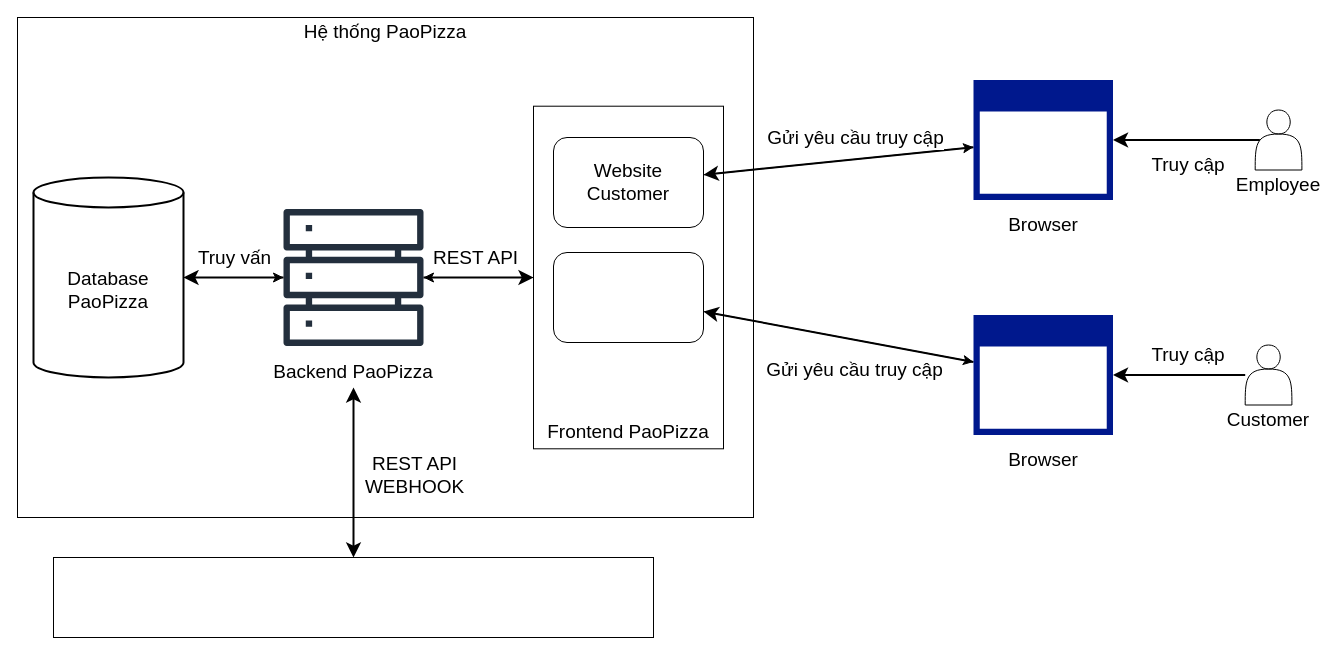
Some shapes in this 1338 by 655 pixel diagram are drawn without their labels. The shapes that lost their labels are listed below. From the top down, each one's centre as x and y in pixels, then its label:
At point 628,297: "Website Employee".
At point 353,597: "Sepay API".
